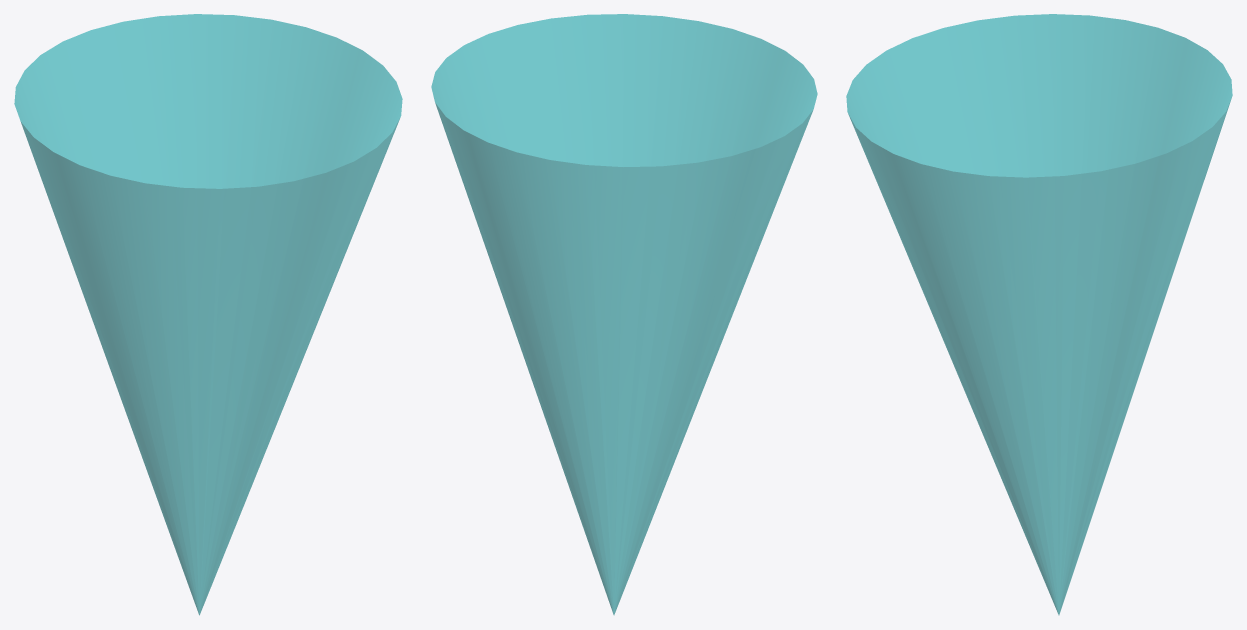
The model's file is plasma ball hologram puzzle lock hologram light projection from base to project full screen.fbx.
3 views of the same model, side by side, from view 1: azimuth 30°, elevation 25°; view 2: azimuth 150°, elevation 25°; view 3: azimuth 270°, elevation 25° (orthographic).
Parts seen in each view (by area): view 1: f42746d8-11ff-45fa-90d1-414b11d57af5; view 2: f42746d8-11ff-45fa-90d1-414b11d57af5; view 3: f42746d8-11ff-45fa-90d1-414b11d57af5.
Boxes of the visible parts, x1=… form: f42746d8-11ff-45fa-90d1-414b11d57af5: x1=14, y1=14, x2=402, y2=615; f42746d8-11ff-45fa-90d1-414b11d57af5: x1=431, y1=14, x2=817, y2=615; f42746d8-11ff-45fa-90d1-414b11d57af5: x1=846, y1=14, x2=1232, y2=615.
Size of the model in its own units: 25656 by 38513 by 25642.
